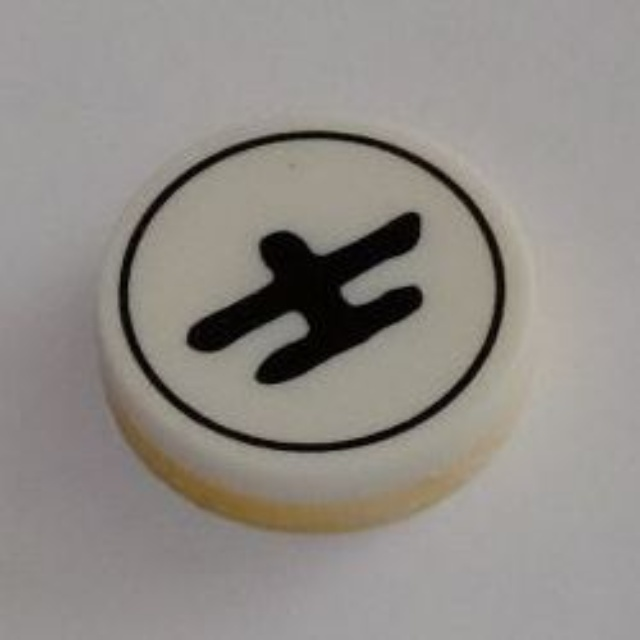black_si: (91, 103, 546, 536)
